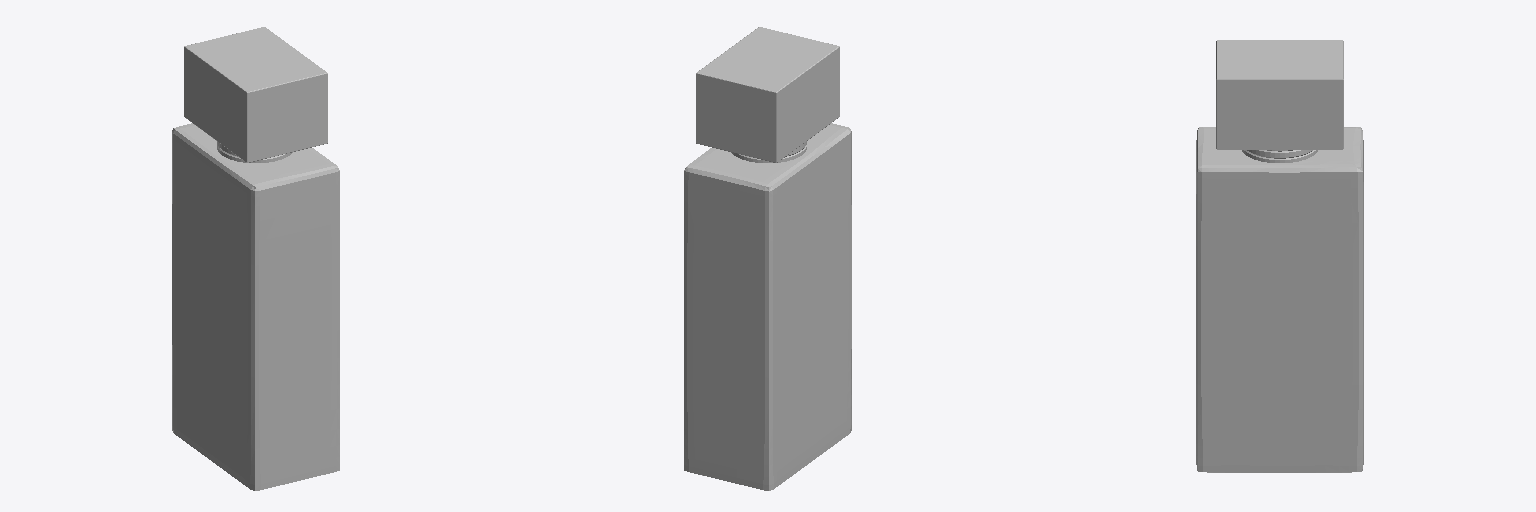
Rendered from Perfume Bottle_A_OBJ.obj.
The picture shows the model from 3 angles: view 1: azimuth 30°, elevation 25°; view 2: azimuth 150°, elevation 25°; view 3: azimuth 270°, elevation 25°; orthographic projection.
Parts seen in each view (by area): view 1: polySurface3, Cap pCube2; view 2: polySurface3, Cap pCube2; view 3: polySurface3, Cap pCube2, pPlane5 Cap.
Boxes of the visible parts, x1=… form: polySurface3: x1=172, y1=123, x2=339, y2=490; Cap pCube2: x1=184, y1=27, x2=327, y2=162; polySurface3: x1=684, y1=123, x2=851, y2=490; Cap pCube2: x1=696, y1=27, x2=839, y2=162; polySurface3: x1=1196, y1=127, x2=1363, y2=472; Cap pCube2: x1=1216, y1=40, x2=1343, y2=149; pPlane5 Cap: x1=1242, y1=150, x2=1317, y2=162.
Bounding box in the file's own units: 0.61 × 2.59 × 1.